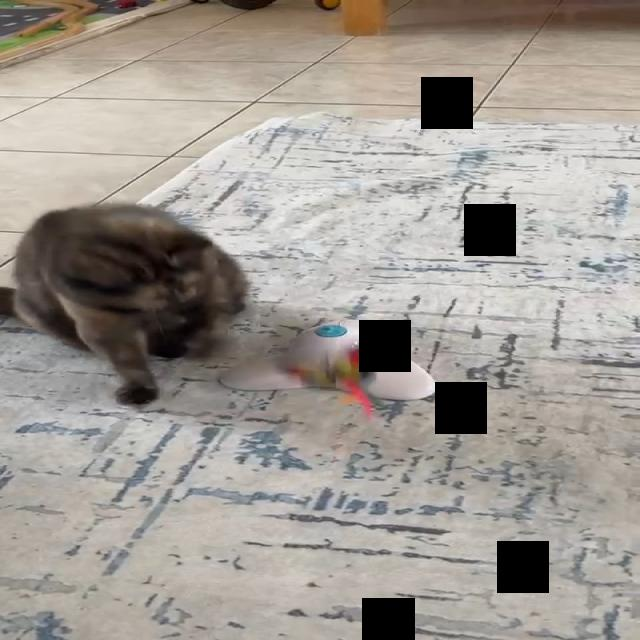authorized: (0, 201, 249, 405)
